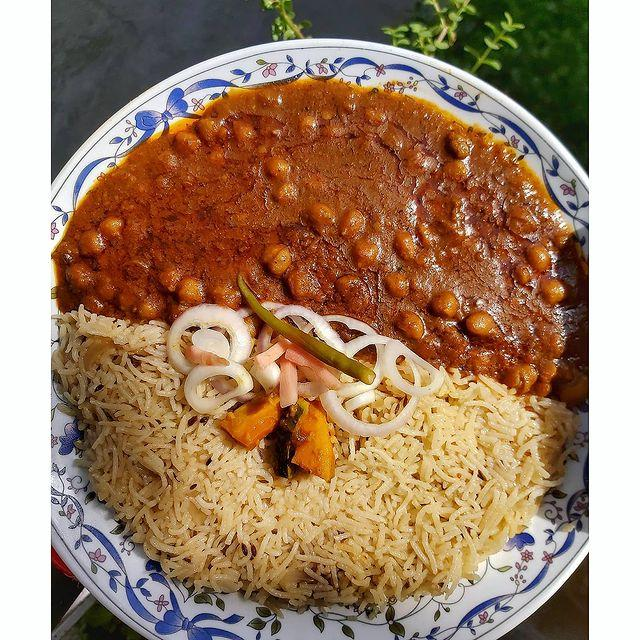Chole: (77, 94, 553, 331)
